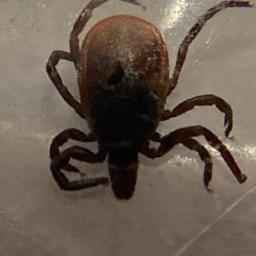Ixodes scapularis: (46, 0, 253, 202)
